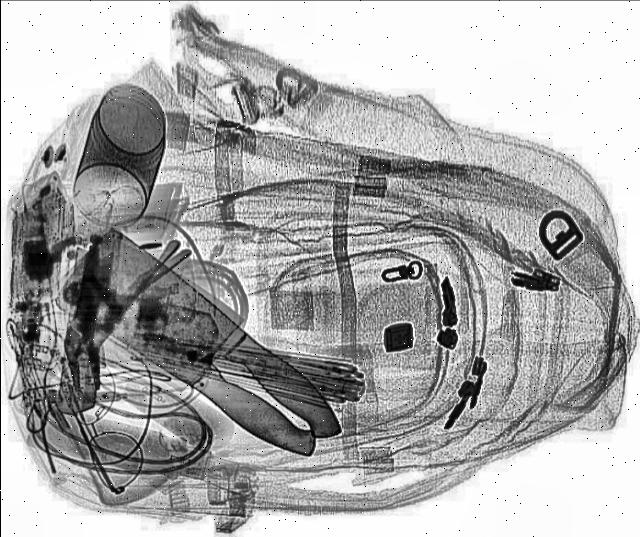Knife: (36, 225, 362, 475), (43, 229, 371, 467)
